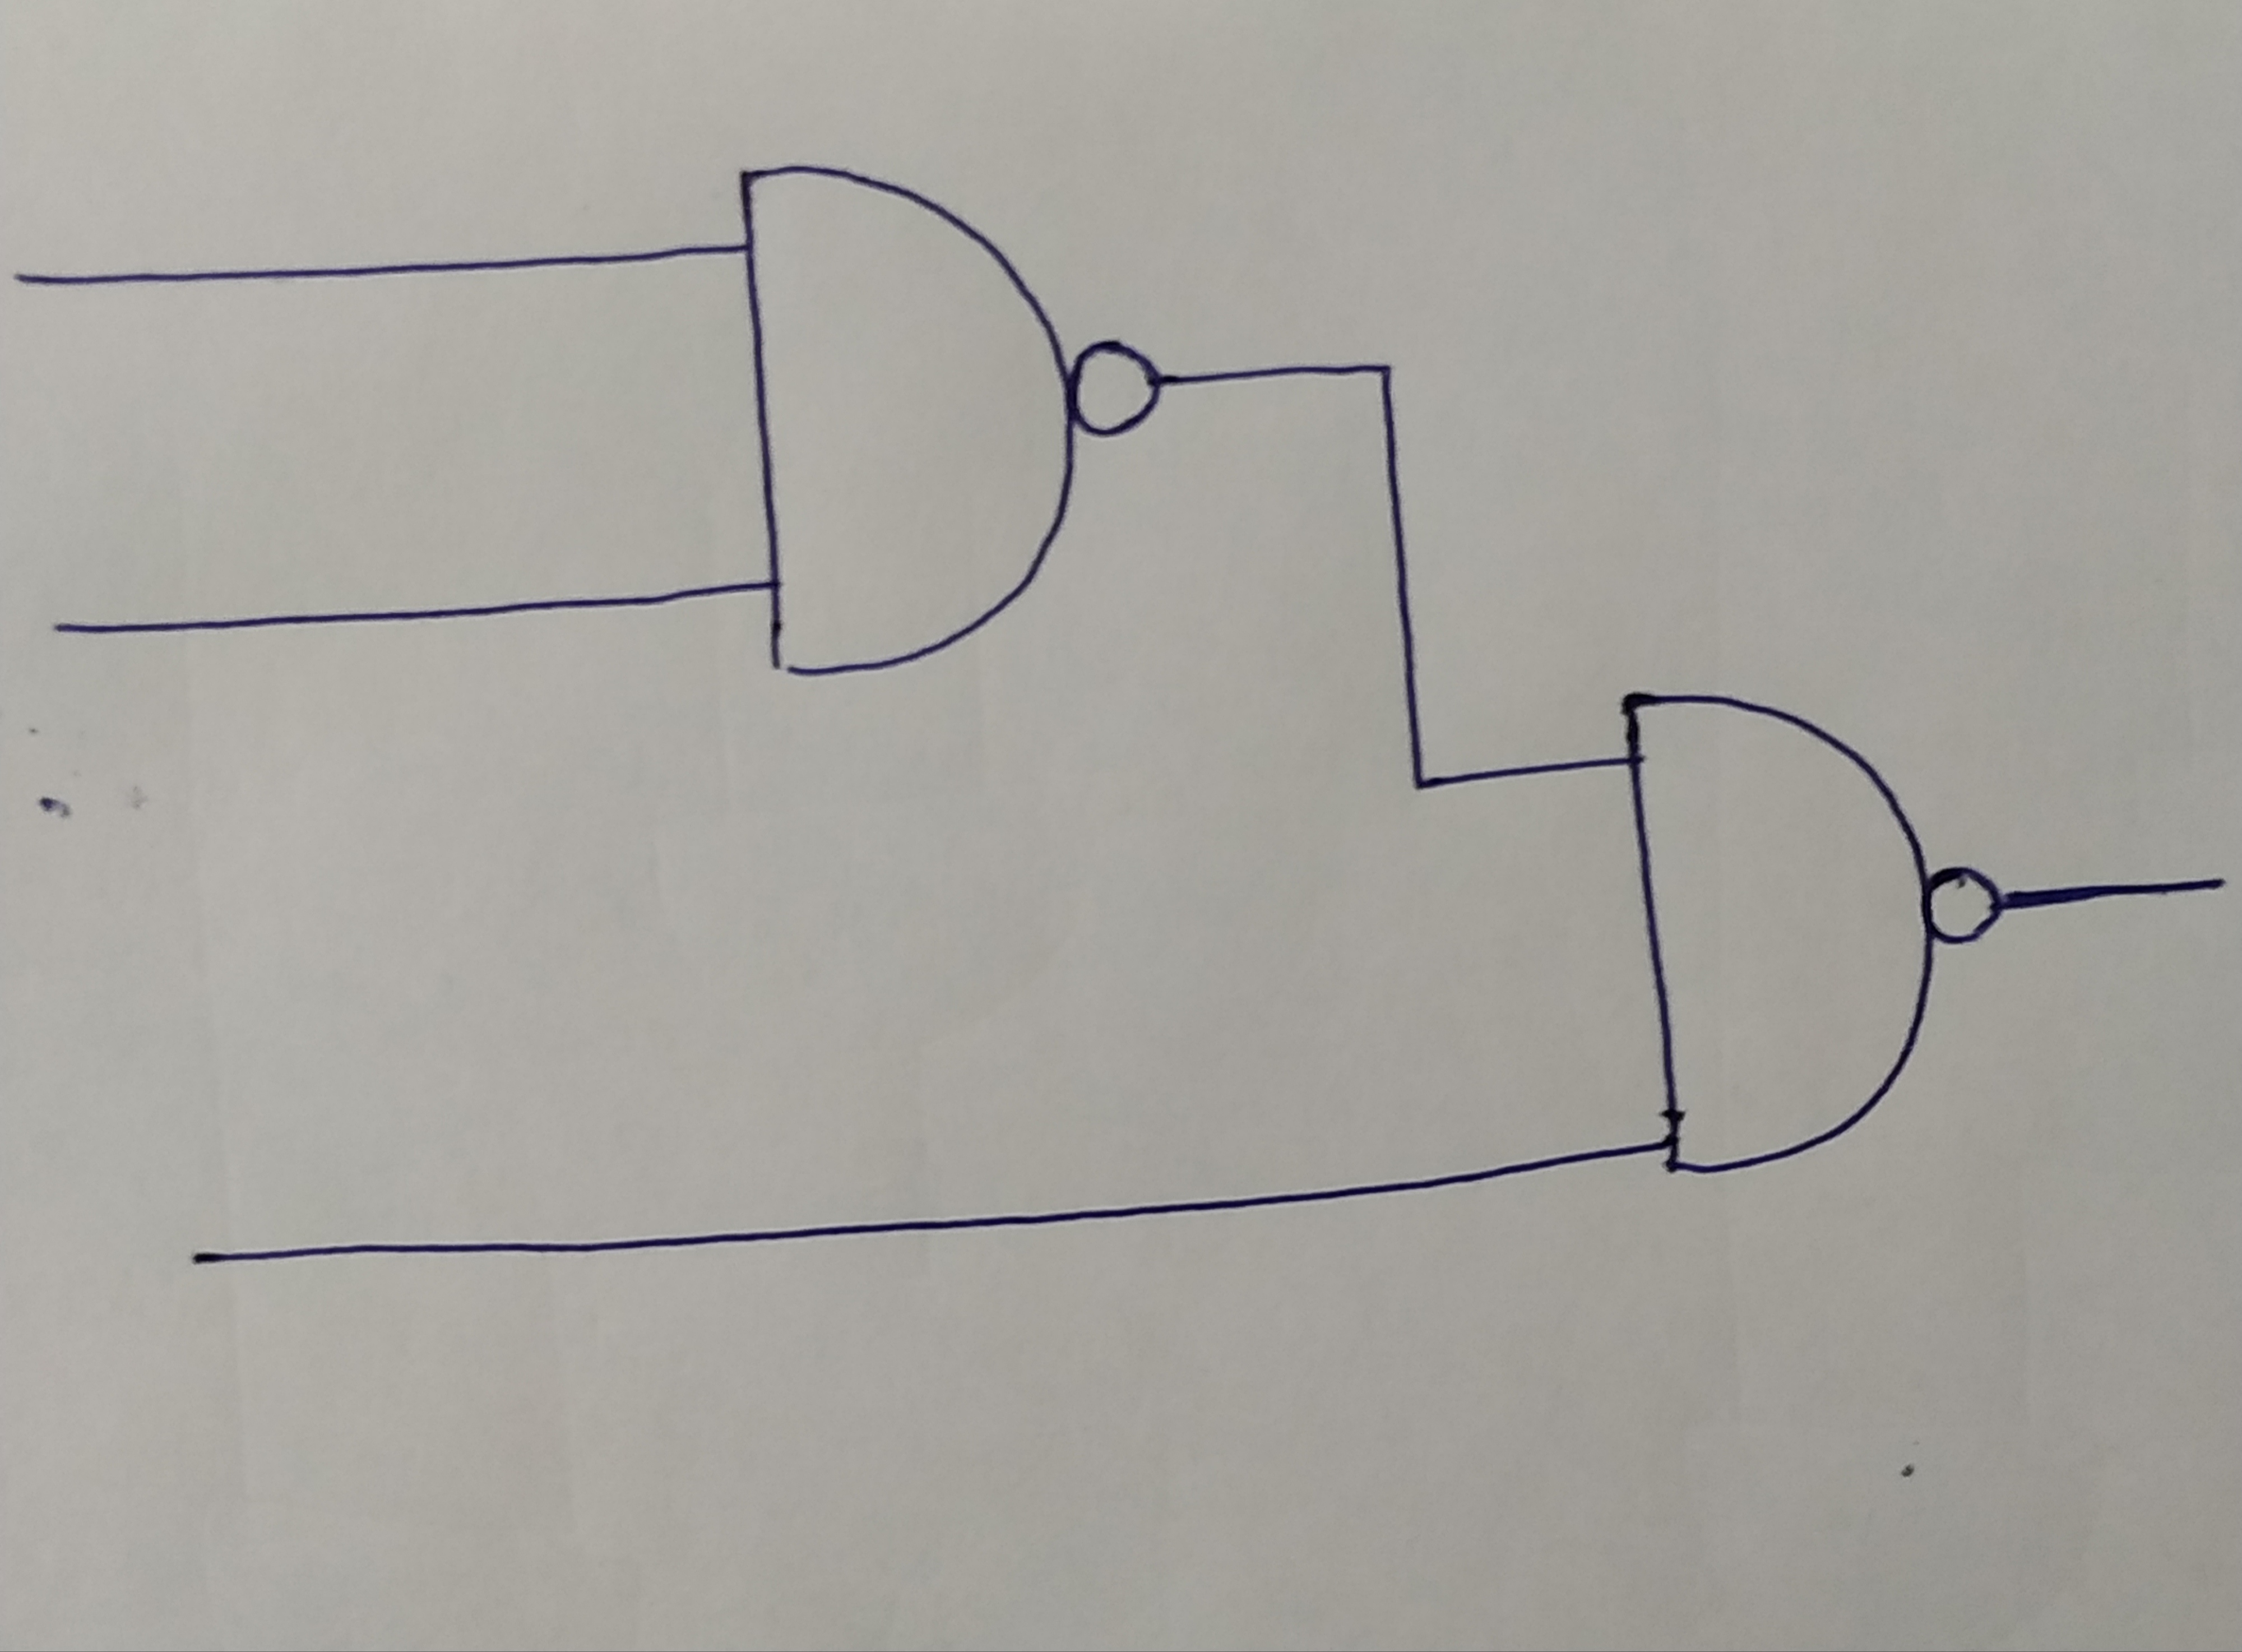and: (735, 162, 1069, 679), (1621, 693, 1932, 1179)
not: (1065, 339, 1161, 444), (1936, 862, 2000, 945)
